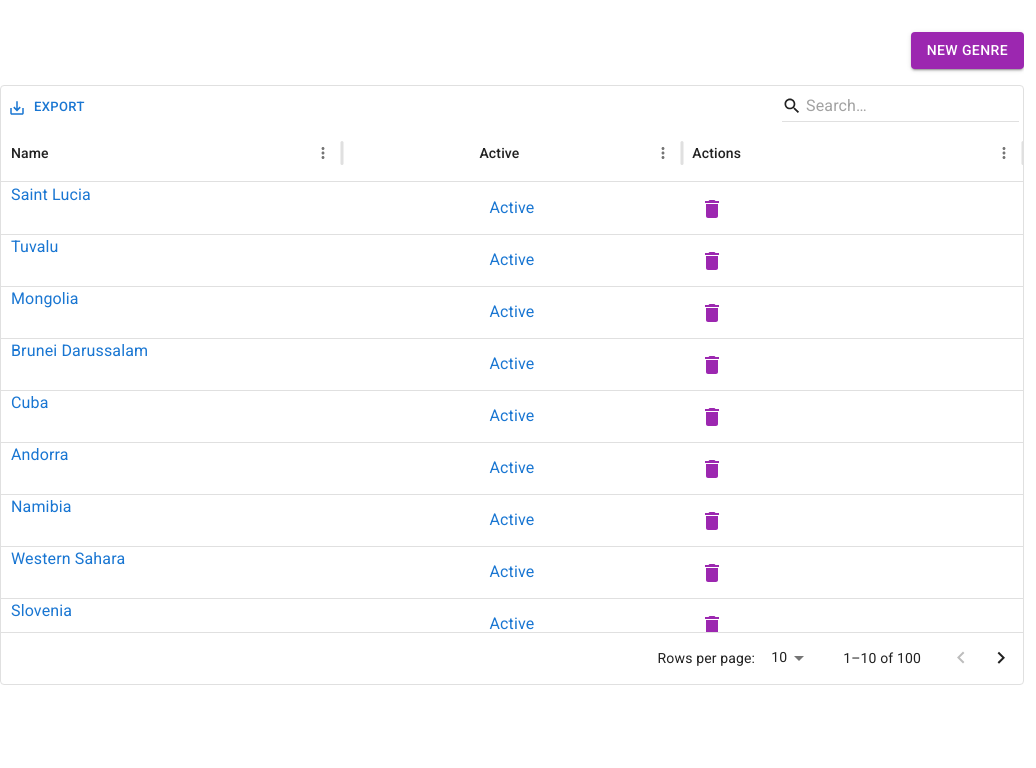
Test ListGenre page › should handle delete genre success
This screenshot has width=1036, height=768.
Check: the text "Saint Lucia" is shown, box top-left (11, 184), bottom-right (91, 204)
Click the button with test id "delete-genre-button" in the row of "Saint Lucia".
click(712, 209)  # box top-left (692, 189), bottom-right (732, 229)
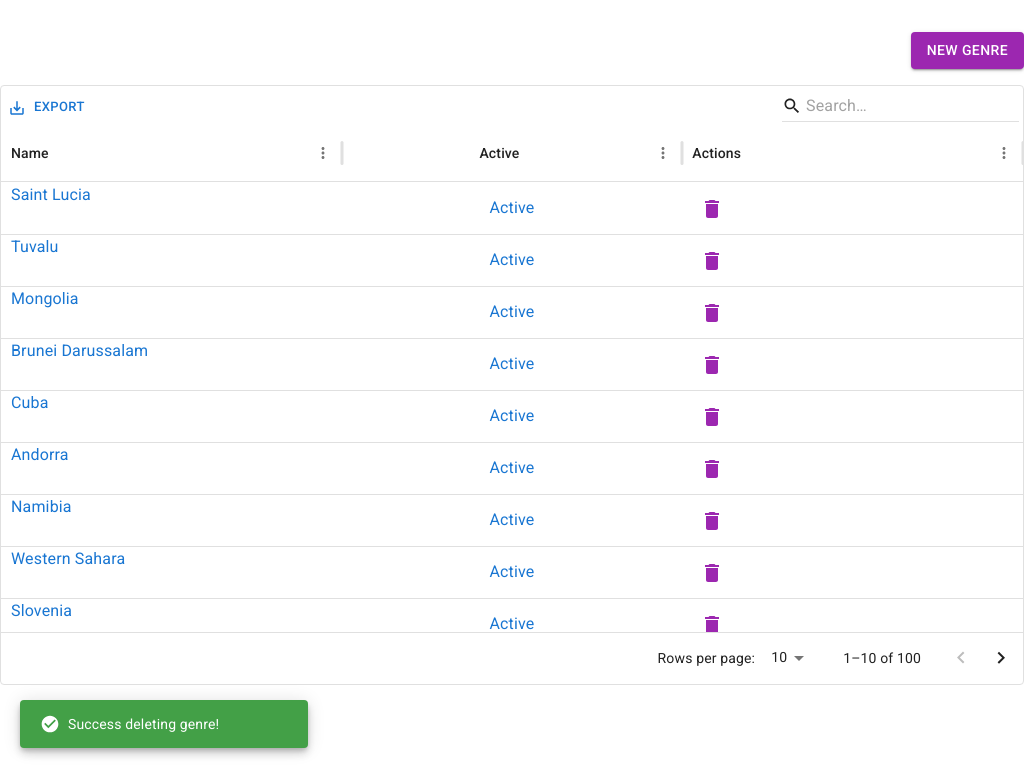
Check: the text "Success deleting genre!" is shown, box top-left (40, 714), bottom-right (219, 734)
